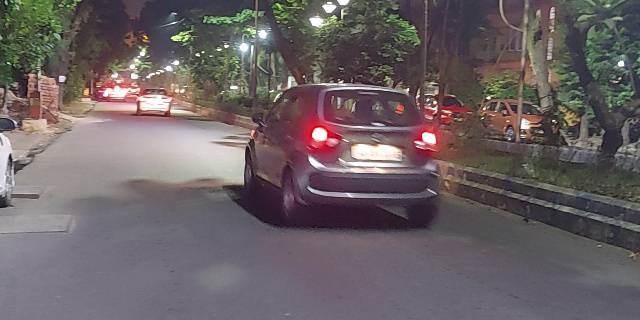Car: (244, 83, 438, 226), (133, 85, 176, 121)
